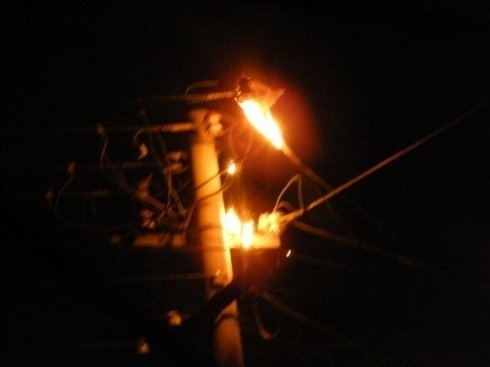fire: (234, 85, 292, 153), (218, 202, 279, 247)
